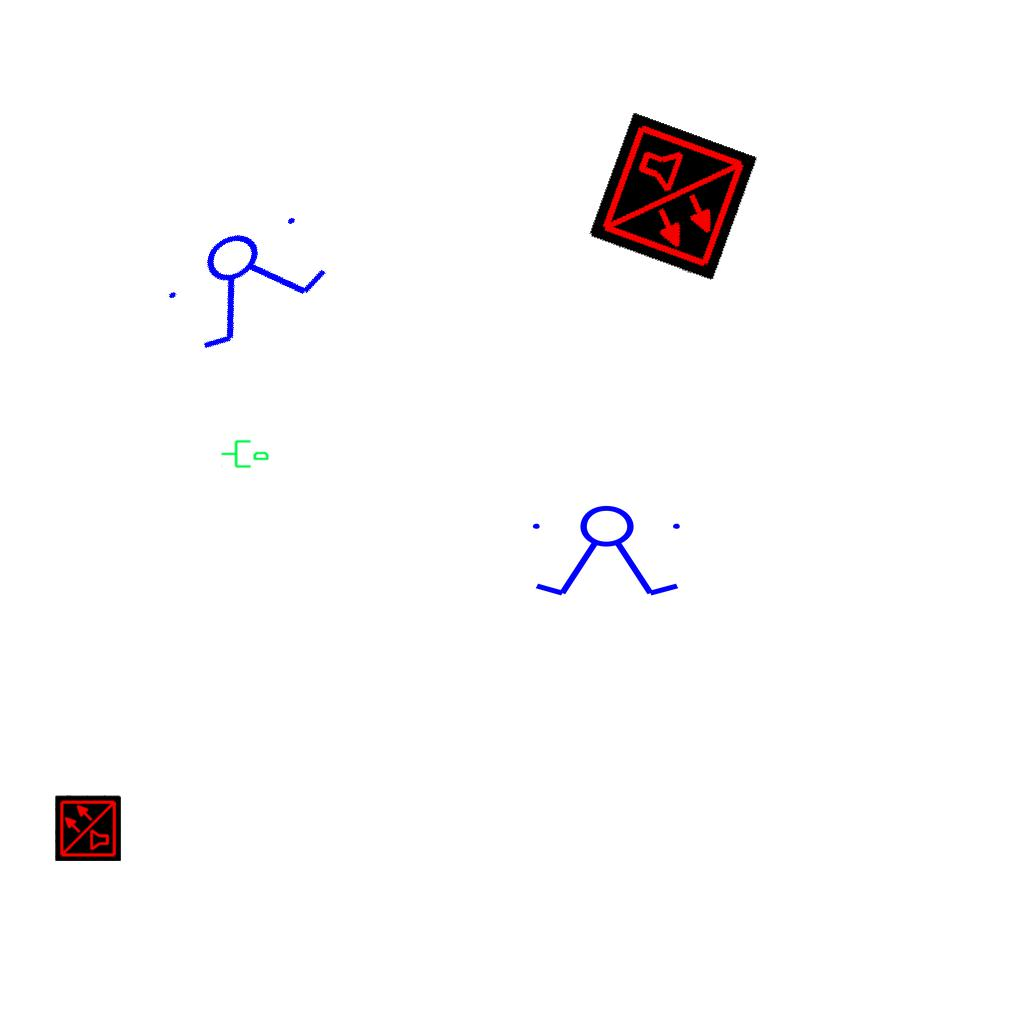Datenanschluss_einfach: (220, 436, 270, 470)
OKW_Multisensormelder_(Kombination_optischer_Rauch-Kahlenmonoxid_Waerme-Melder): (588, 112, 758, 282), (55, 795, 121, 861)
Serienschalter: (150, 193, 344, 365), (524, 504, 692, 600)
